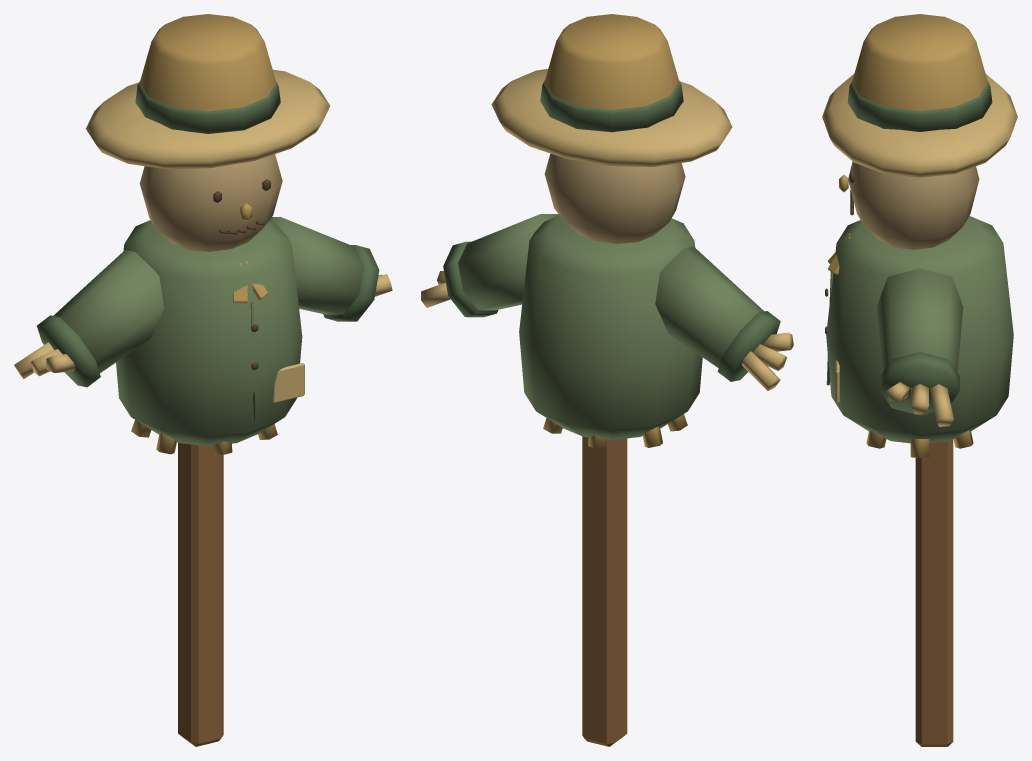
The model's file is deco_scarecrow.glb.
3 views of the same model, side by side, from view 1: azimuth 30°, elevation 25°; view 2: azimuth 150°, elevation 25°; view 3: azimuth 270°, elevation 25° (orthographic).
Visible parts, largest first — view 1: deco_scarecrow; view 2: deco_scarecrow; view 3: deco_scarecrow.
Part boxes in pixels (bbox=[...]): deco_scarecrow: bbox=[14, 14, 392, 746]; deco_scarecrow: bbox=[421, 14, 793, 746]; deco_scarecrow: bbox=[822, 14, 1017, 746].
Size of the model in its own units: 0.7967 by 1.5 by 0.3754.
